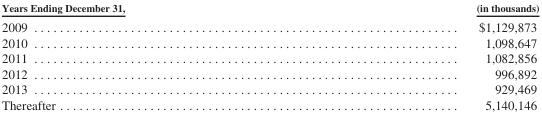table: (0, 1, 538, 111)
table column: (0, 1, 300, 111), (300, 1, 538, 111)
table column header: (0, 1, 538, 16)
table row: (0, 16, 538, 34), (0, 34, 538, 50), (0, 65, 538, 81), (0, 1, 538, 16), (0, 50, 538, 65), (0, 81, 538, 96), (0, 96, 538, 111)
